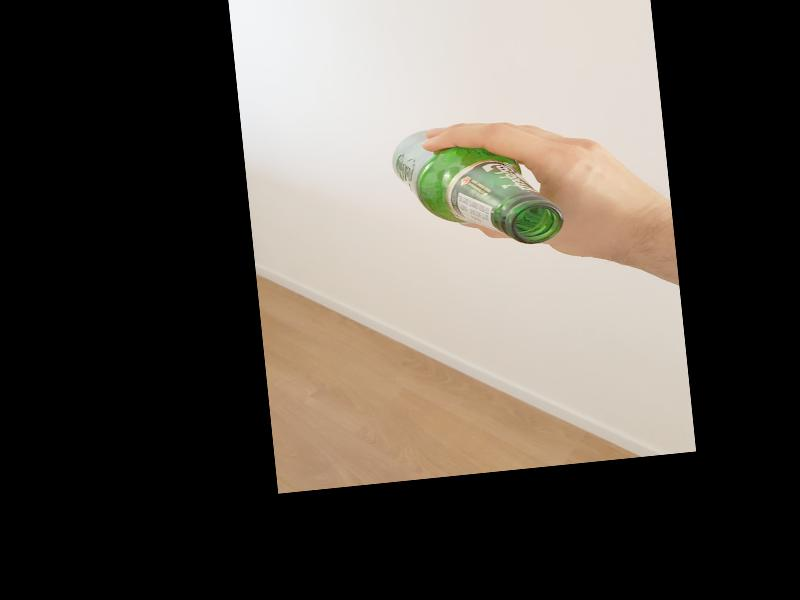Beer: (389, 118, 566, 260)
